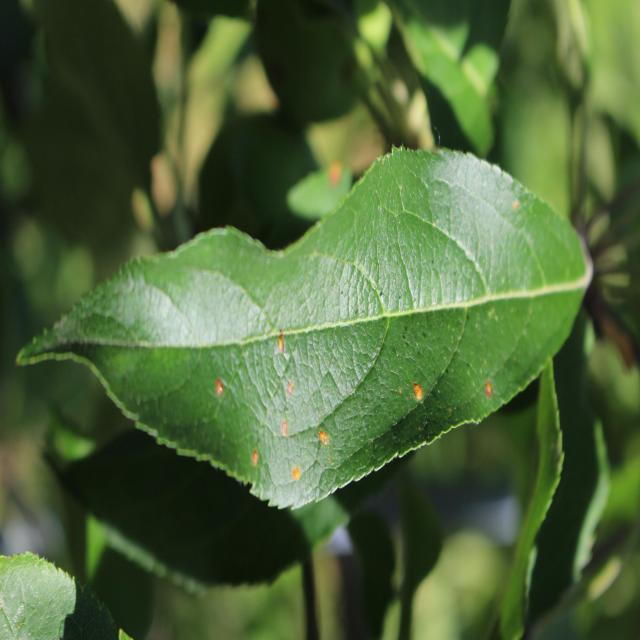Rust: (200, 354, 232, 424), (320, 147, 350, 220), (309, 414, 340, 462), (268, 408, 299, 452), (268, 317, 295, 362), (285, 454, 311, 496), (280, 366, 300, 410), (405, 381, 430, 413), (247, 434, 267, 468), (477, 379, 500, 406)
